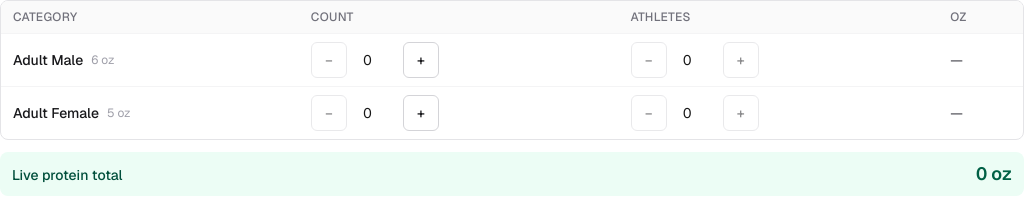
Test: PortionGrid › clamps athlete steppers to count in the UI
// Increase Adult Male count to 1
Click the button named "Increase Adult Male count": (421, 60) x1=403 y1=42 x2=439 y2=78
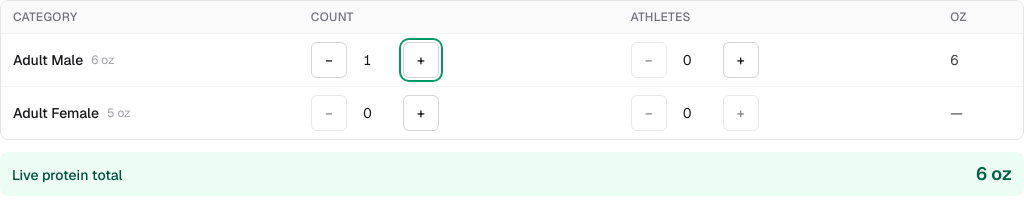
Result: the number field named "Adult Male count" holds "1" at x1=351 y1=49 x2=399 y2=71
// Increase athlete once → 1
Click the button named "Increase Adult Male athlete count": (741, 60) x1=723 y1=42 x2=759 y2=78
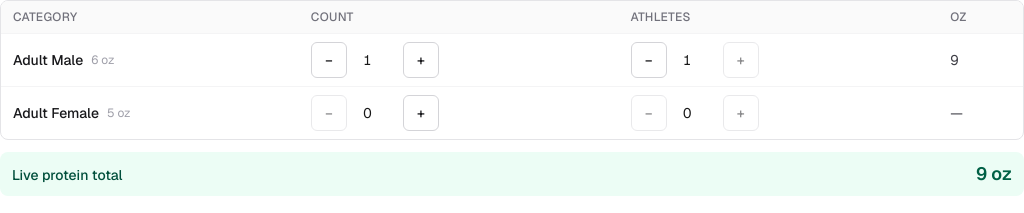
Result: the number field named "Adult Male athlete count" holds "1" at x1=671 y1=49 x2=719 y2=71
